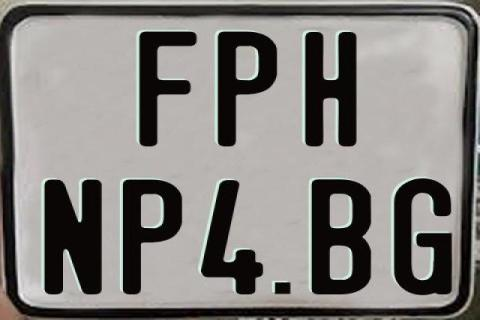0: (201, 178, 268, 298)
B: (311, 179, 372, 295)
F: (136, 31, 194, 148)
G: (394, 177, 458, 297)
H: (302, 29, 354, 145)
N: (43, 178, 104, 294)
P: (216, 29, 278, 149), (121, 178, 183, 296)
